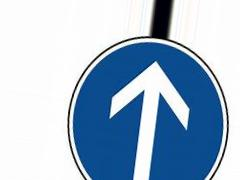forward: (67, 36, 228, 180)
